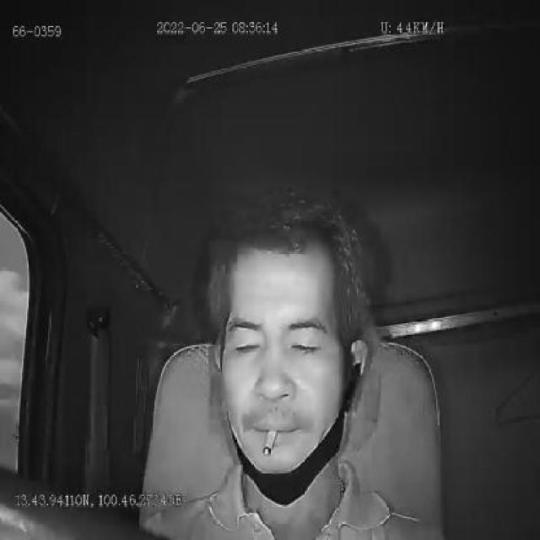smoking: (262, 428, 278, 456)
